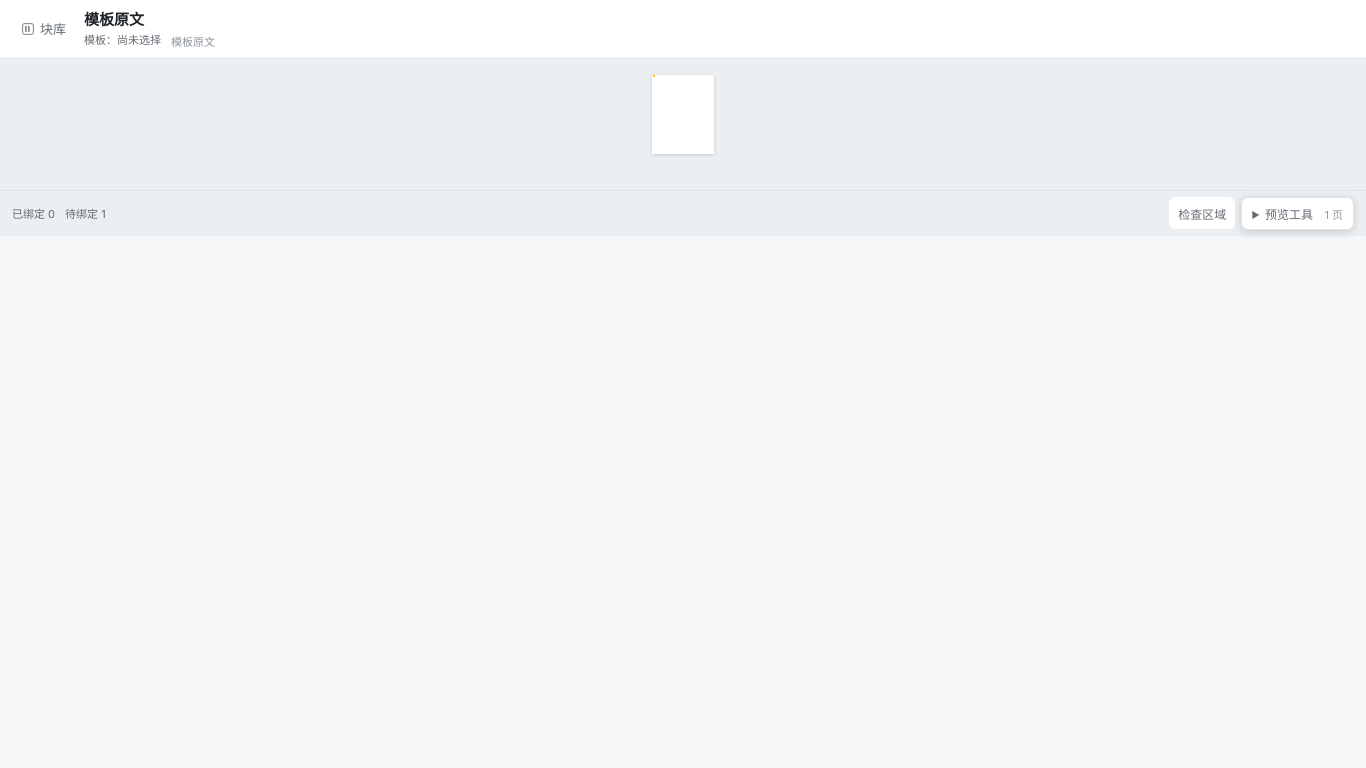
Test case: TemplatePreview 绑定交互（M6a） › 点字段直接打开编辑侧栏，文稿保持可见
This screenshot has width=1366, height=768.
What coordinates should you click on to do the following:
click the button with class "overlay"
I would click on:
 (654, 76)
Its box is x1=652 y1=75 x2=654 y2=77.
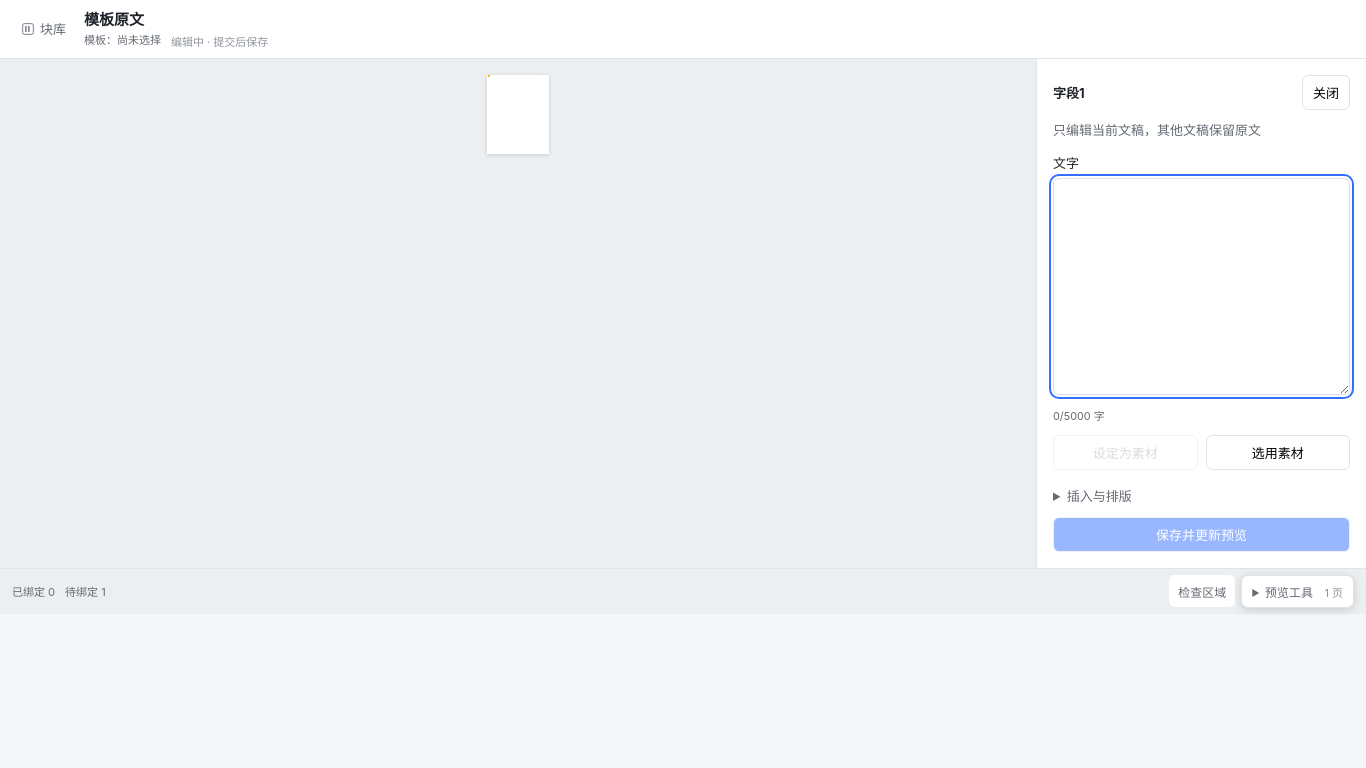
Now the element named "文稿字段编辑" shows "字段1", box x1=1053 y1=85 x2=1085 y2=101
